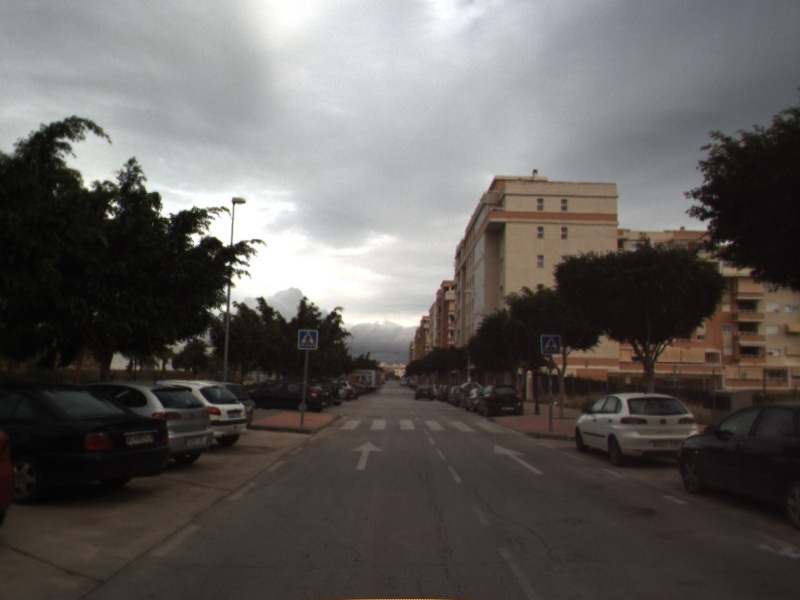STRAIGHT: (492, 443, 547, 477), (349, 439, 385, 472)
